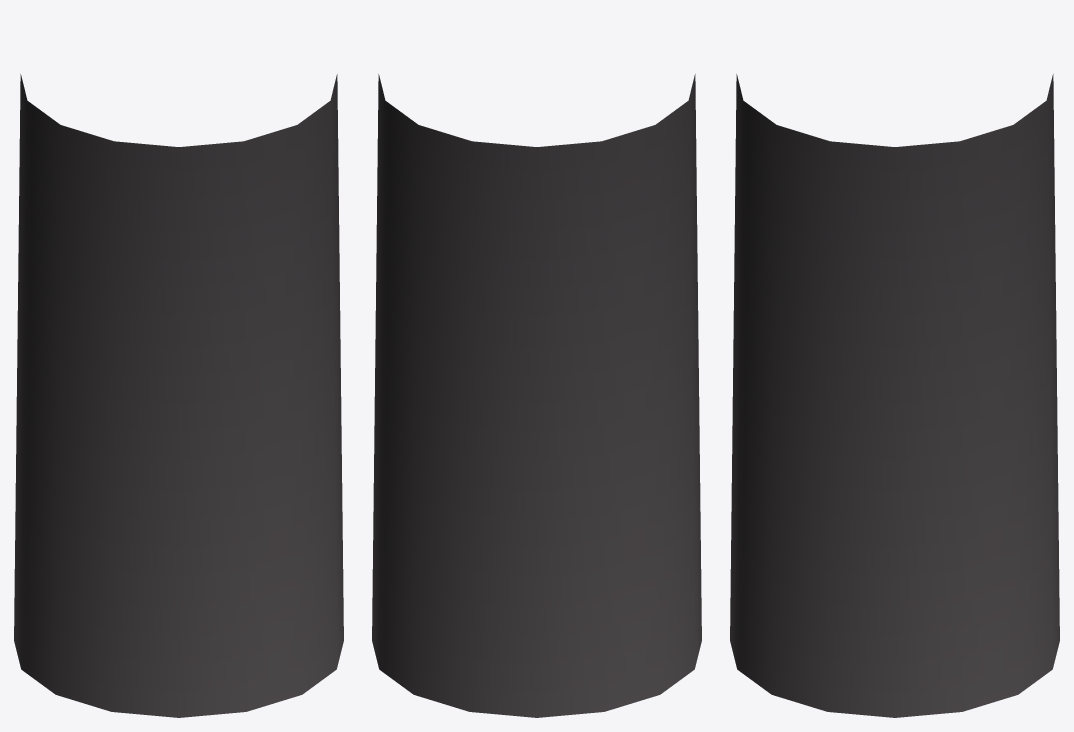
The model's file is LGT_Brazier.glb.
The picture shows the model from 3 angles, left to right: view 1: azimuth 30°, elevation 25°; view 2: azimuth 150°, elevation 25°; view 3: azimuth 270°, elevation 25°; orthographic projection.
Parts seen in each view (by area): view 1: LGT_Brazier; view 2: LGT_Brazier; view 3: LGT_Brazier.
Part boxes in pixels (left/top/right/bottom): LGT_Brazier: left=14, top=74, right=343, bottom=717; LGT_Brazier: left=372, top=74, right=701, bottom=717; LGT_Brazier: left=730, top=74, right=1059, bottom=717.
Size of the model in its own units: 0.4451 by 0.85 by 0.4475.
1 material, 1 textured.
